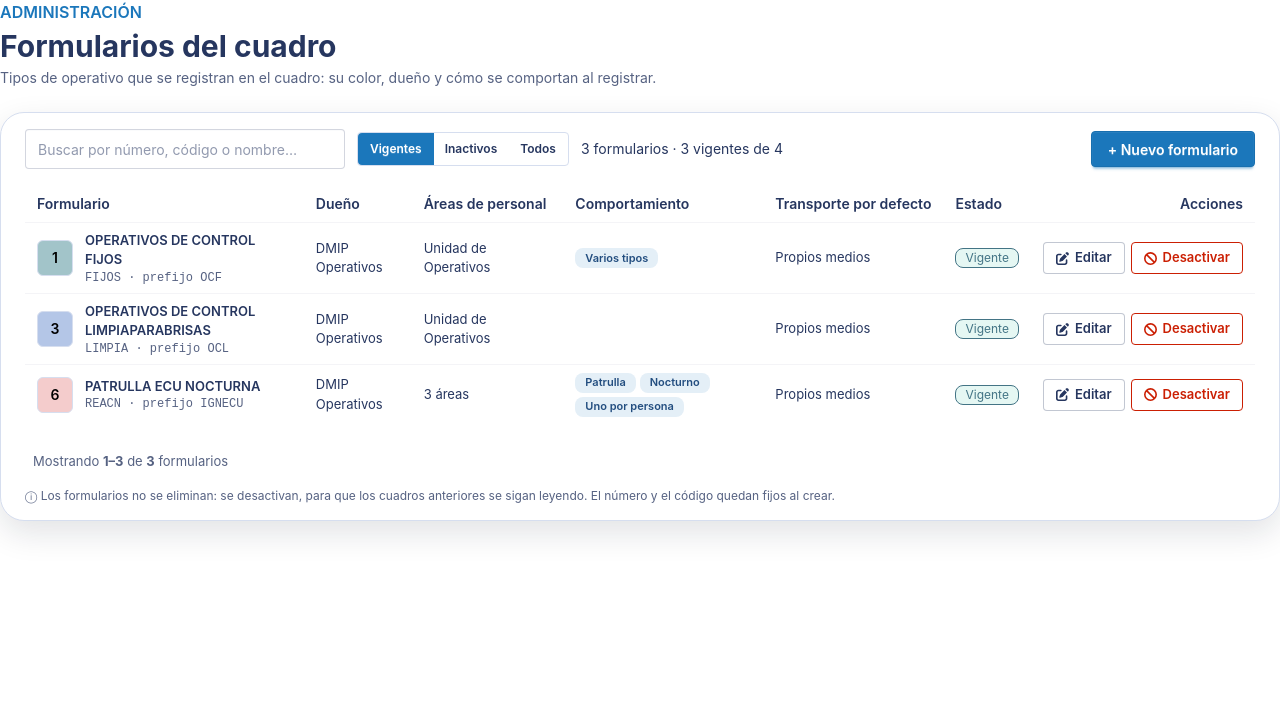
it: cajón de edición › los prefijos por área se ven en solo lectura
Expected: the table named "Formularios del cuadro" is shown, [25,185,1255,424]
What coordinates should you click on to do the following:
click the button with aria-label "Editar 6. PATRULLA ECU NOCTURNA"
I would click on:
 (1084, 395)
Its box is [1043,379,1125,411].
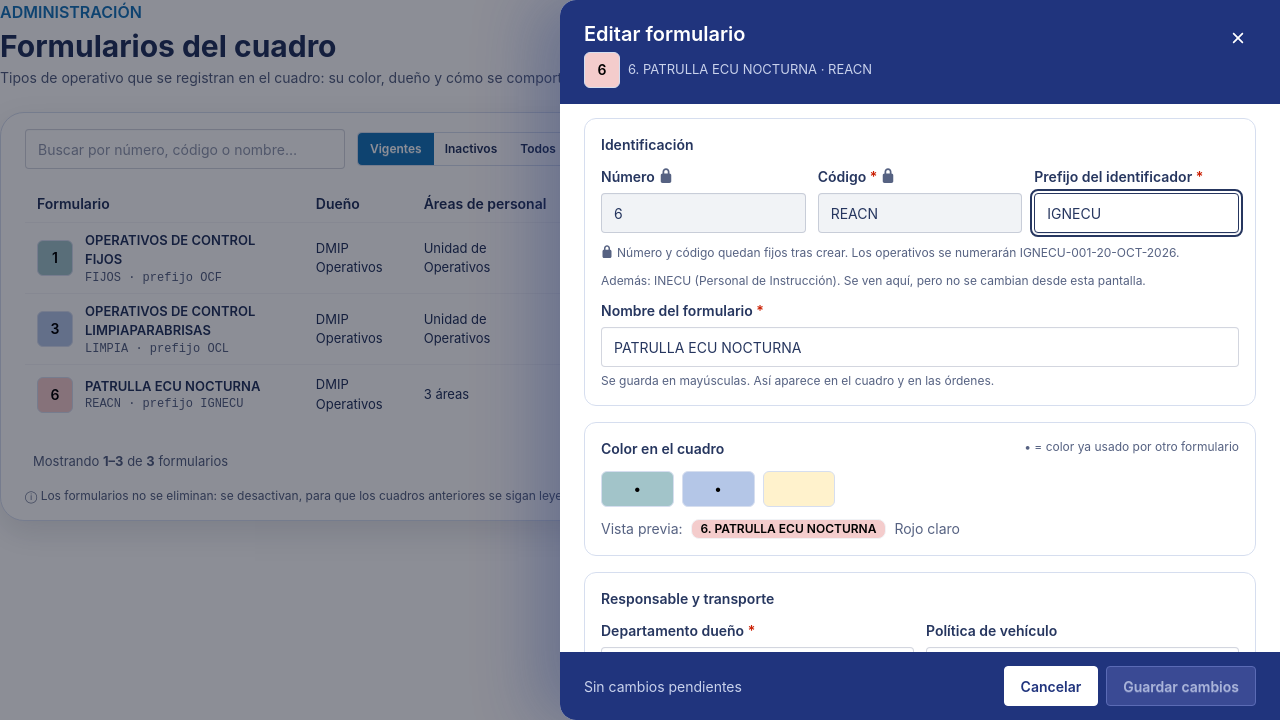
Expected: the text "Además: INECU (Personal de Instrucción)" is shown, [601,273,1239,289]
